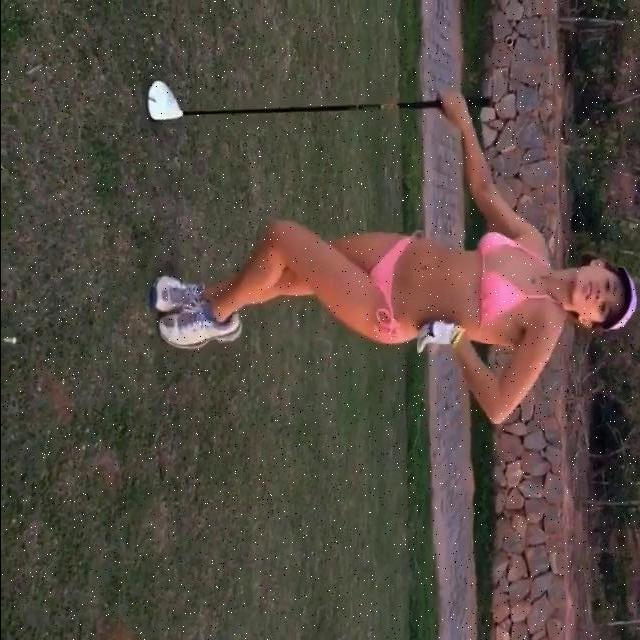golf club-handle: (144, 74, 496, 126)
golf club-head: (146, 79, 185, 124)
